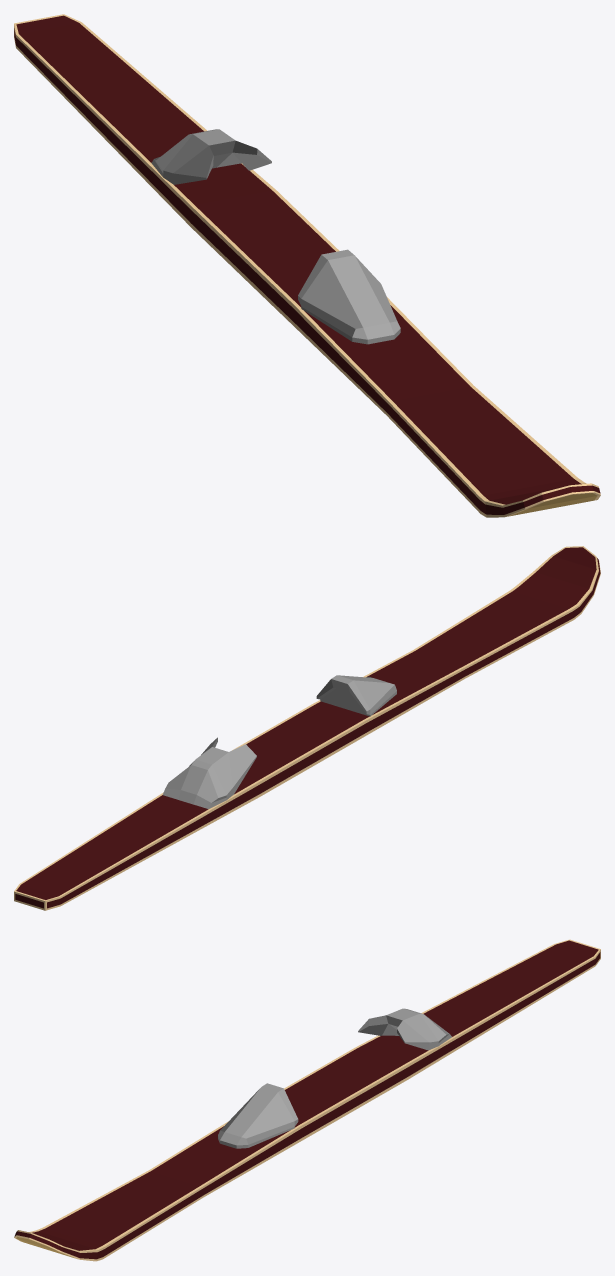
The model's file is USSR_Ski.fbx.
The picture shows the model from 3 angles, top to bottom: view 1: azimuth 30°, elevation 25°; view 2: azimuth 150°, elevation 25°; view 3: azimuth 330°, elevation 25°; orthographic projection. The views are drawn at different scales.
Visible parts, largest first — view 1: USSR_Ski; view 2: USSR_Ski; view 3: USSR_Ski.
Part boxes in pixels (x1=…): USSR_Ski: x1=14, y1=14, x2=600, y2=517; USSR_Ski: x1=14, y1=546, x2=600, y2=910; USSR_Ski: x1=14, y1=939, x2=600, y2=1261.
Bounding box in the file's own units: 41.74 × 14.11 × 247.
